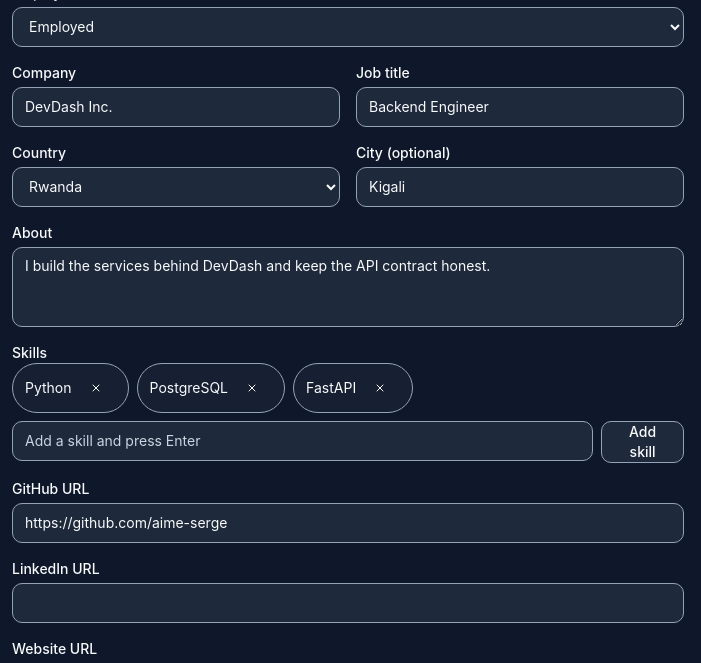
it: MF-08 profile editor › adds and removes a skill (MB-05: at most 10, unique ignoring case)
(page scrolled)
In the field with placeholder "Add a skill and press Enter": (303, 441) left=12, top=421, right=593, bottom=461, type "python"
Then press Enter
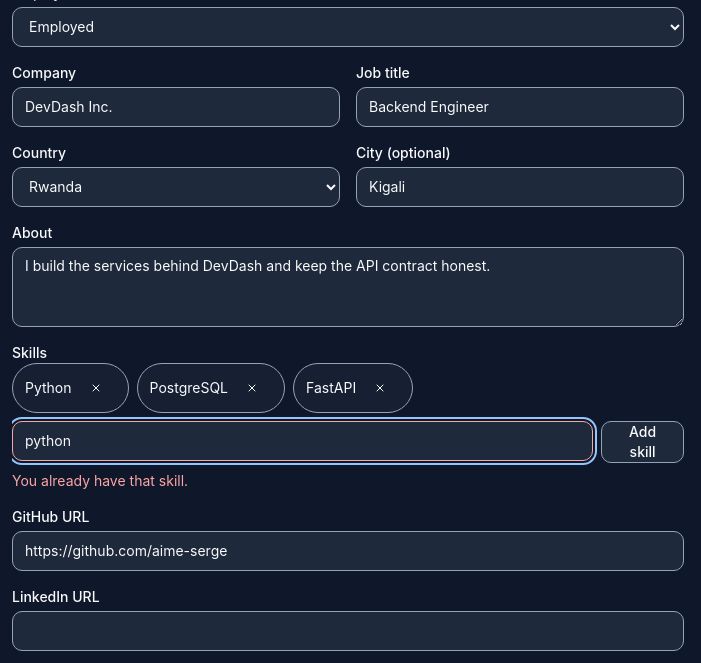
Check: the text "You already have that skill." is shown, box left=12, top=472, right=188, bottom=489
Replace the text in the field with placeholder "Add a skill and press Enter" with "Rust": (303, 441) left=12, top=421, right=593, bottom=461
Then press Enter
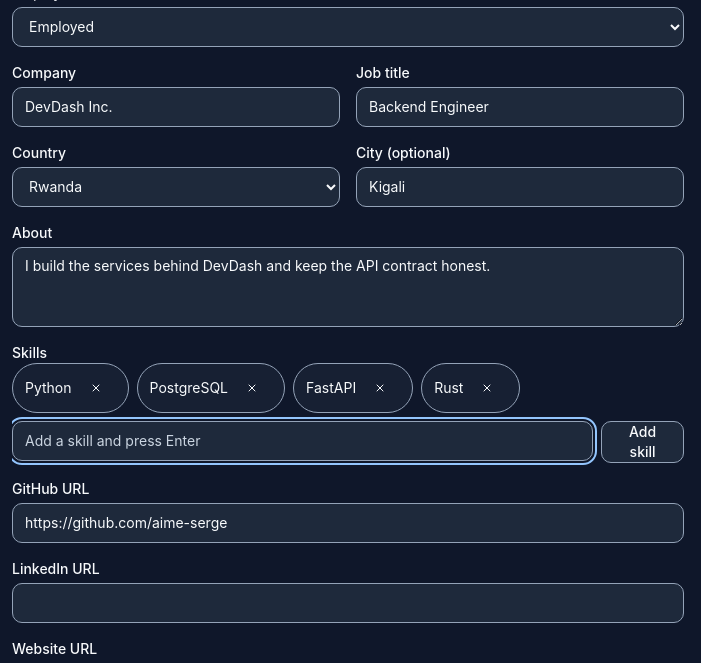
Check: the list item "Rust" is shown, box left=421, top=363, right=520, bottom=413
Click the button named "Remove Rust": (487, 388) left=467, top=368, right=507, bottom=408
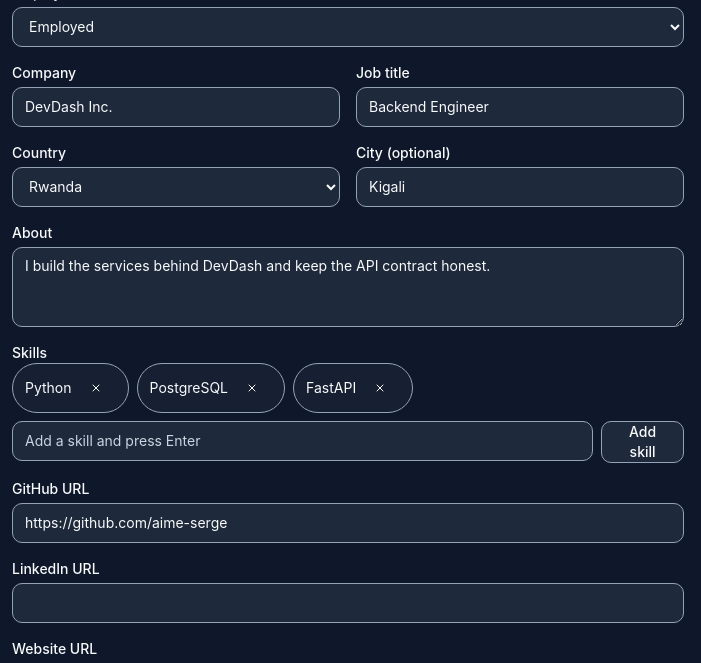
Check: the list item "Rust" is gone
